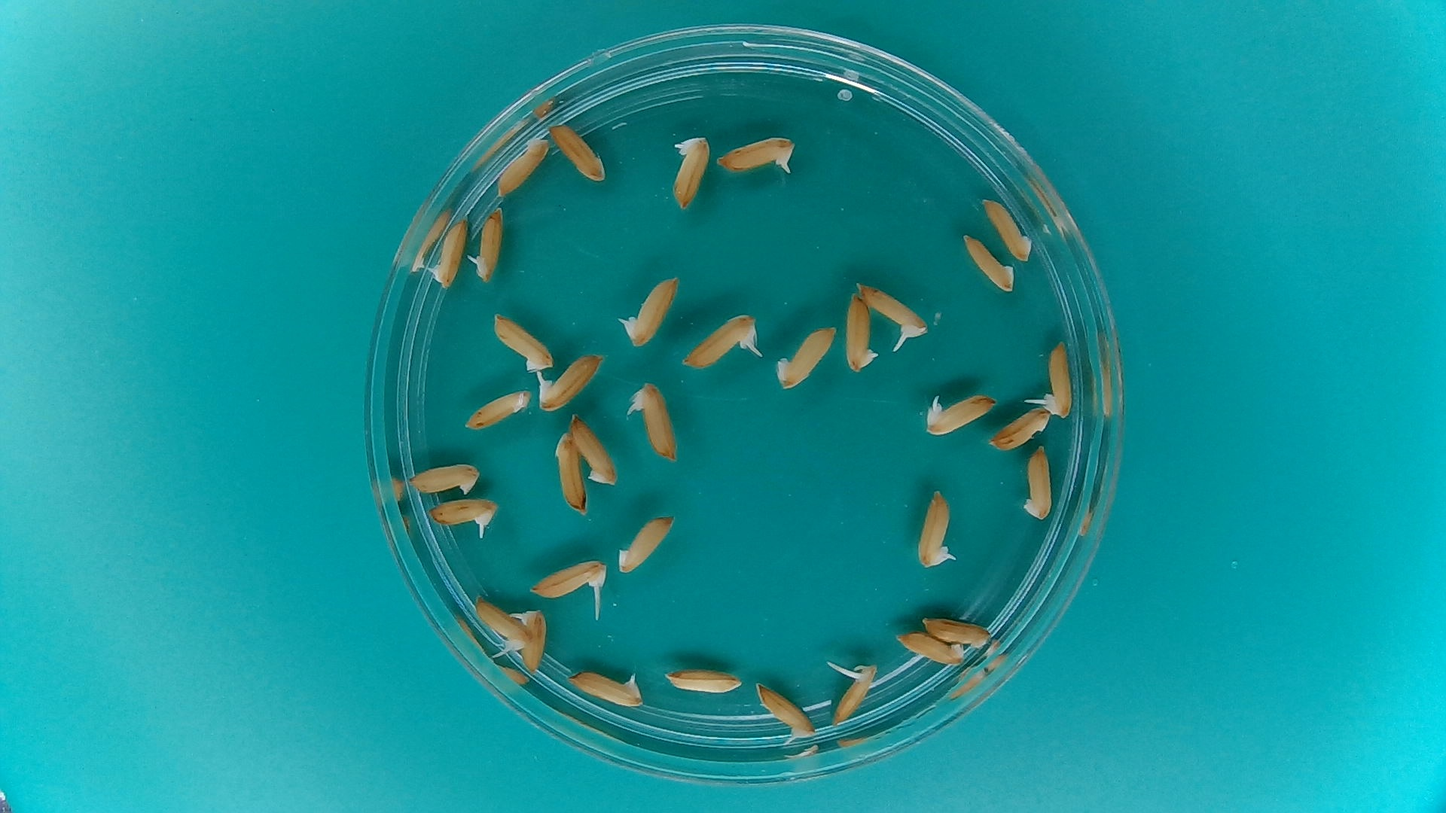no: (773, 320, 840, 392), (565, 411, 621, 491), (489, 309, 556, 374), (615, 510, 677, 577), (979, 193, 1036, 263), (547, 119, 607, 183), (496, 133, 554, 198), (959, 230, 1016, 296), (462, 385, 535, 432), (551, 432, 589, 517), (842, 292, 881, 374), (403, 458, 482, 498), (1017, 442, 1055, 524), (990, 406, 1054, 451), (893, 628, 966, 667), (433, 209, 467, 288), (921, 614, 991, 650), (660, 669, 741, 696)
yes: (853, 279, 926, 341), (685, 312, 764, 369), (625, 273, 684, 349), (535, 350, 607, 412), (631, 382, 676, 462), (525, 560, 603, 604), (757, 688, 817, 744), (920, 392, 993, 436), (472, 599, 530, 654), (560, 670, 641, 709), (667, 134, 708, 211), (913, 489, 951, 571), (830, 665, 876, 729), (471, 202, 505, 285), (717, 137, 795, 172), (425, 495, 496, 529), (1045, 343, 1076, 419), (517, 605, 550, 673)
